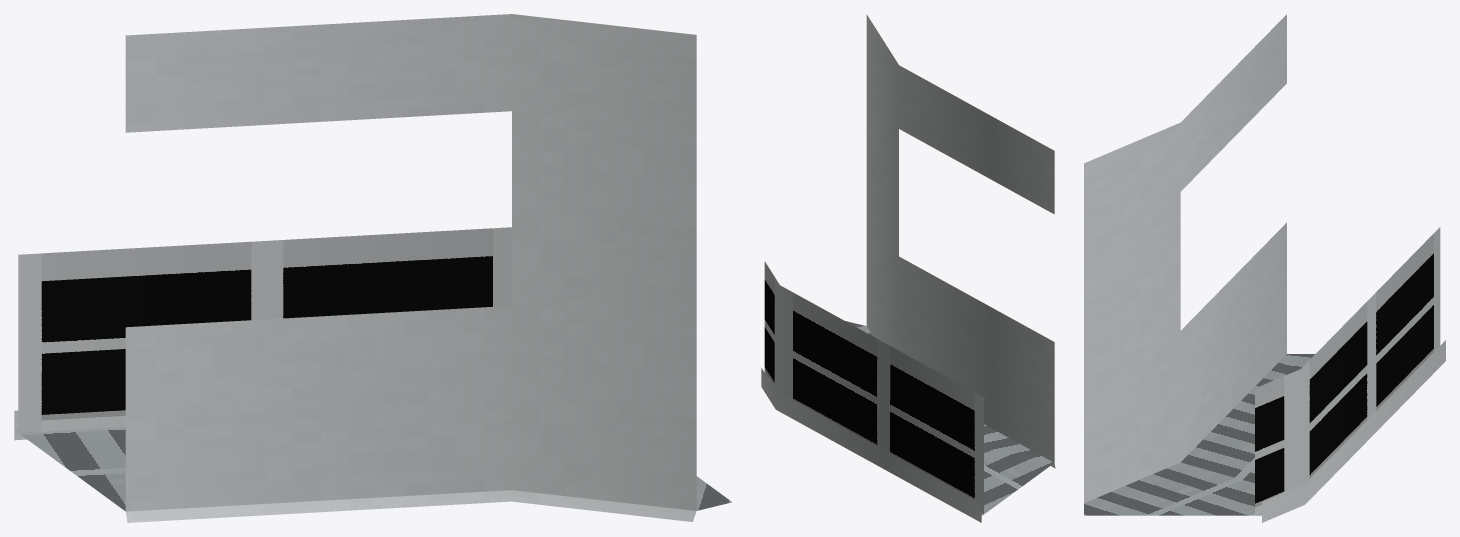
The model's file is bowl_medium_band_shell_2.obj.
3 views of the same model, side by side, from view 1: azimuth 30°, elevation 25°; view 2: azimuth 150°, elevation 25°; view 3: azimuth 270°, elevation 25° (orthographic). The views are drawn at different scales.
Visible parts, largest first — view 1: bowl_medium_band_shell_2; view 2: bowl_medium_band_shell_2; view 3: bowl_medium_band_shell_2.
Boxes of the visible parts, x1,y1,x2,y2 form: bowl_medium_band_shell_2: (14, 14, 731, 522); bowl_medium_band_shell_2: (761, 14, 1055, 522); bowl_medium_band_shell_2: (1084, 14, 1445, 522).
Bounding box in the file's own units: 3 × 3 × 2.83.
